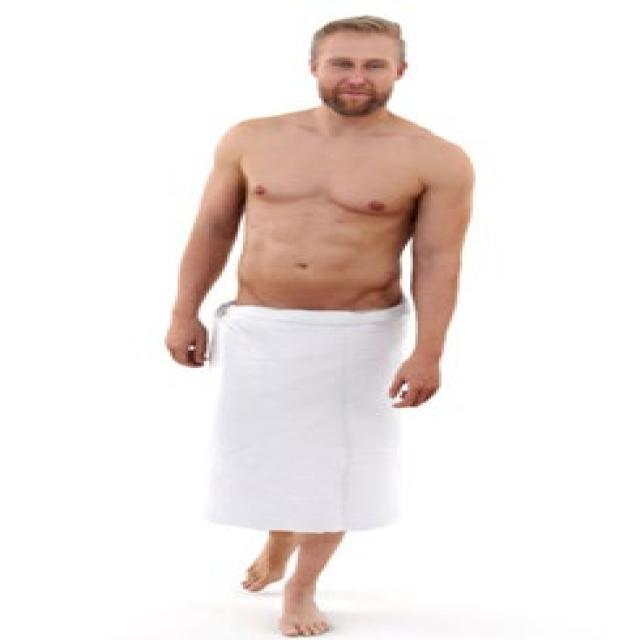standing: (162, 12, 477, 640)
